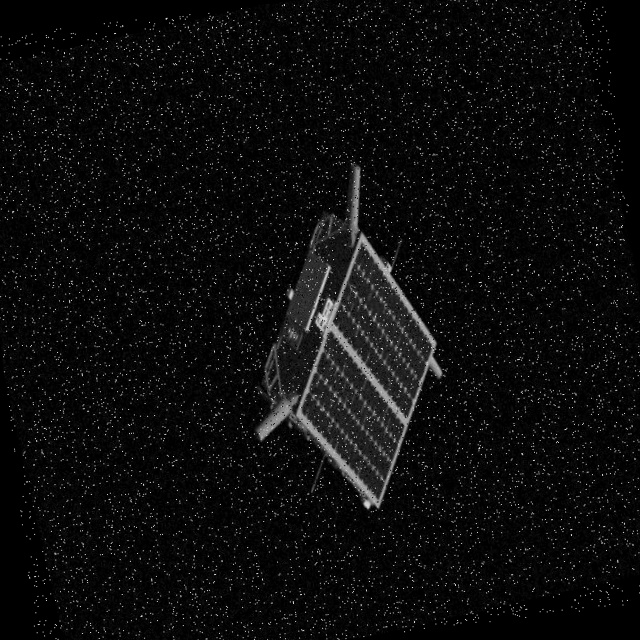satellite: (197, 158, 466, 529)
